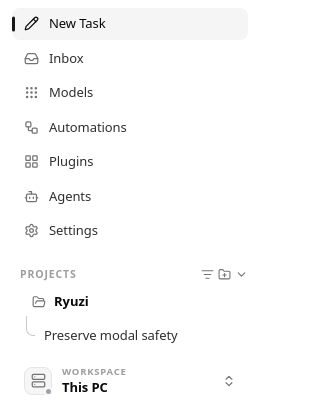
Organize menu switches By Project / By Task and offers Manual Order; no Status filter
Click the button titled "Sort and organize": (208,274) [201,268,214,281]
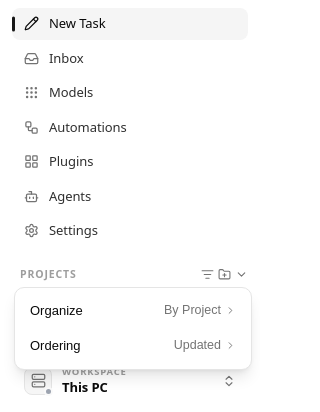
Now the text "Organize" is shown, box [30,302,83,318]
